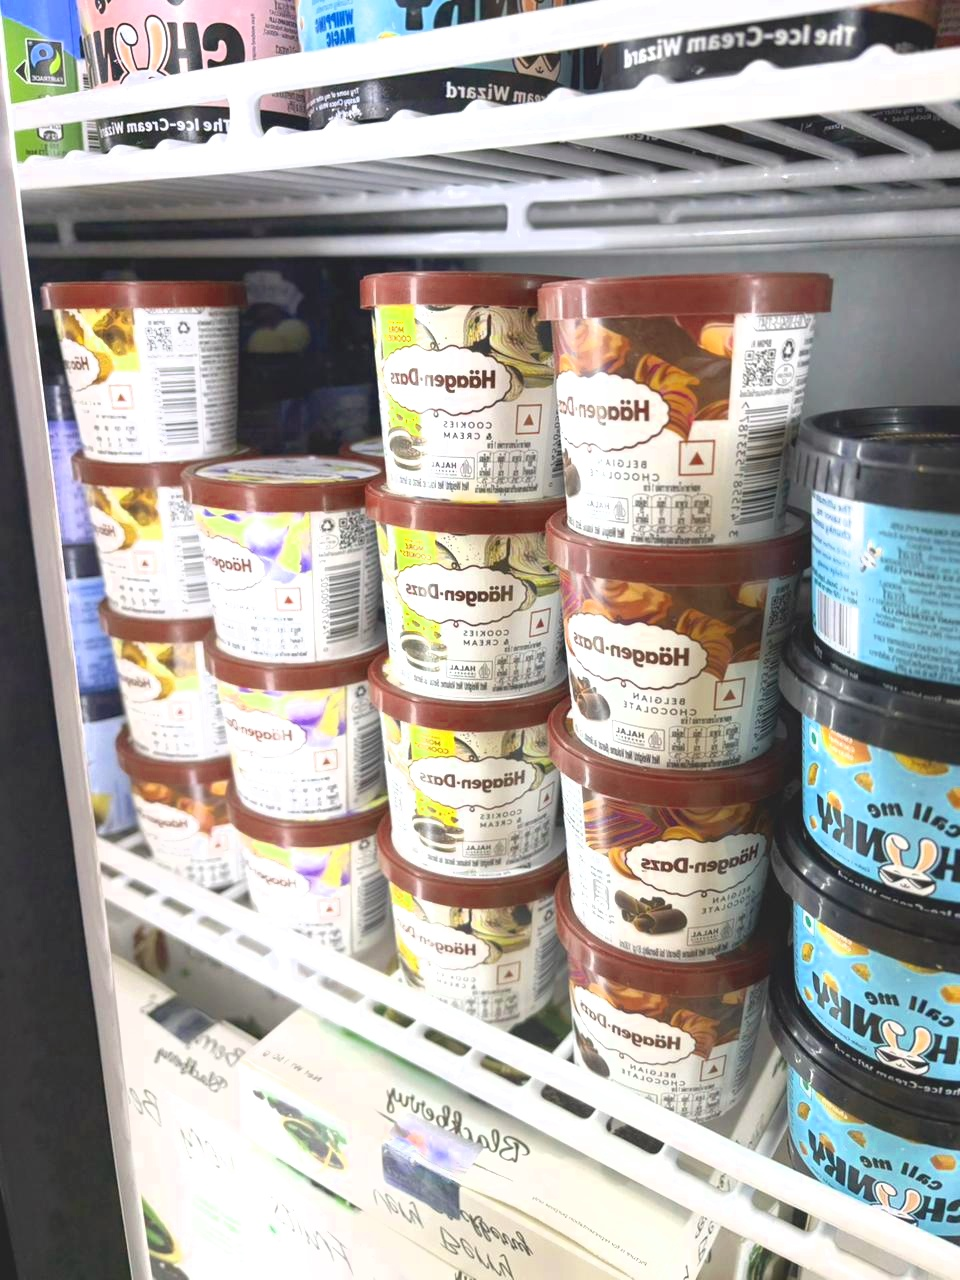Haagen-Dazs IceCream Tub: (554, 258, 853, 550), (548, 739, 822, 978), (553, 520, 836, 751), (571, 881, 802, 1147), (346, 266, 574, 505), (365, 663, 592, 894), (361, 476, 588, 703), (394, 814, 586, 1029), (42, 278, 250, 476), (212, 627, 392, 827), (201, 454, 380, 654), (231, 792, 396, 967), (82, 437, 237, 621), (100, 594, 250, 762), (118, 737, 263, 894)
